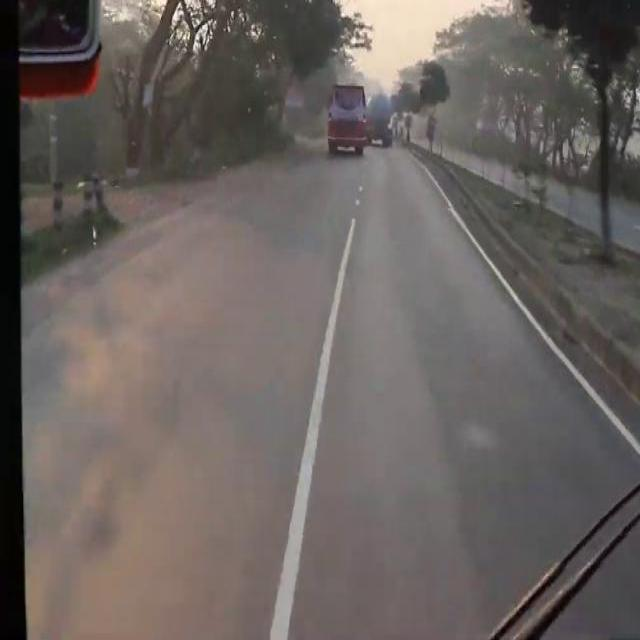vehicle: (328, 85, 369, 150)
